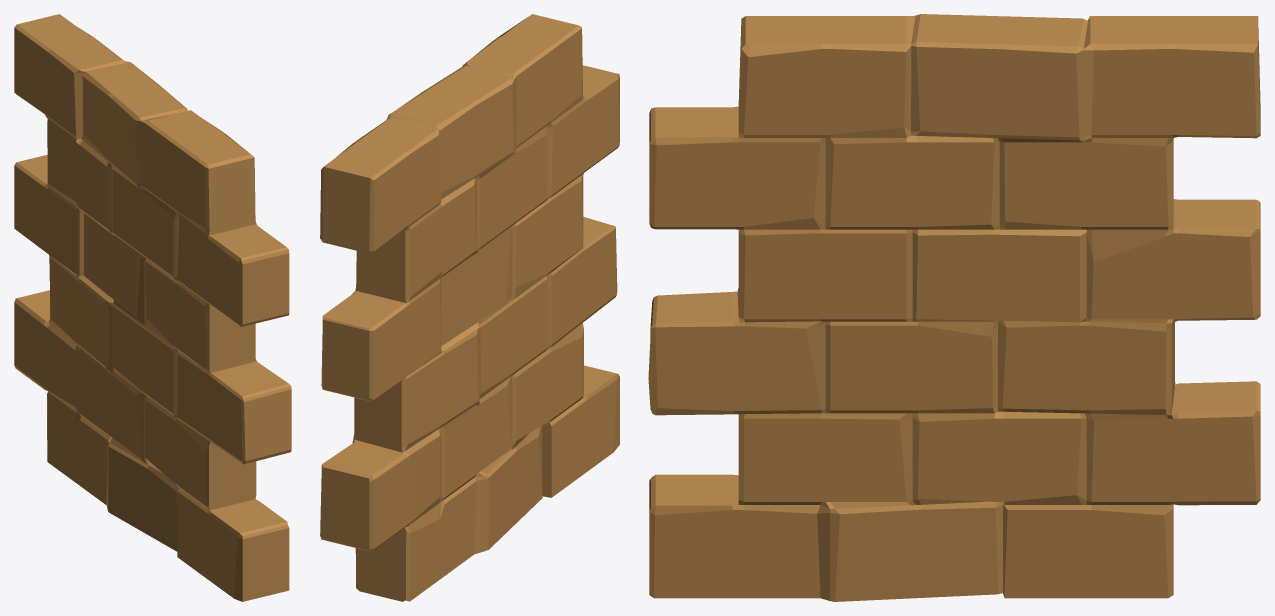
The model's file is WallSection02.fbx.
3 views of the same model, side by side, from view 1: azimuth 30°, elevation 25°; view 2: azimuth 150°, elevation 25°; view 3: azimuth 270°, elevation 25° (orthographic). The views are drawn at different scales.
Parts seen in each view (by area): view 1: WallSection02; view 2: WallSection02; view 3: WallSection02.
Part boxes in pixels (x1,y1,x2,y2): WallSection02: [14, 14, 291, 601]; WallSection02: [320, 14, 619, 601]; WallSection02: [648, 14, 1260, 601].
Size of the model in its own units: 107 by 694 by 698.
